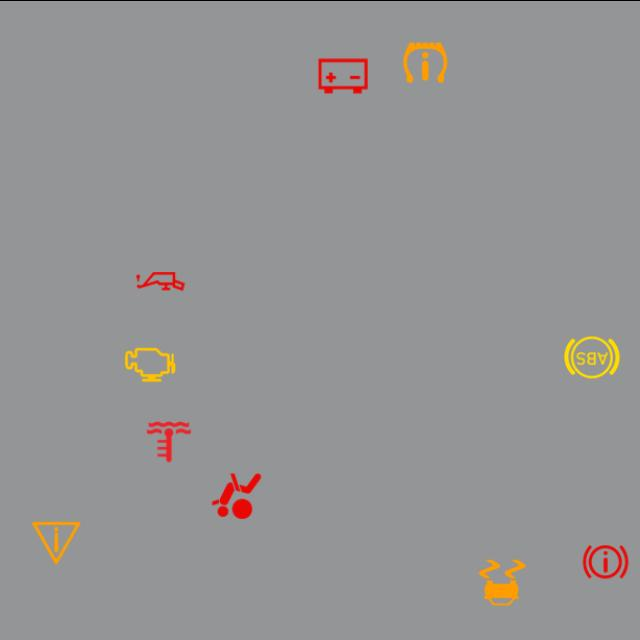Anti Lock Braking System: (562, 326, 622, 386)
Braking System Issue: (576, 531, 636, 591)
Charging System Issue: (313, 45, 373, 105)
Check Engine: (120, 334, 180, 394)
Electronic Stability Problem -ESP-: (472, 552, 532, 612)
Engine Overheating Warning Light: (139, 411, 199, 471)
Low Engine Oil Warning Light: (130, 250, 190, 310)
Low Tire Pressure Warning Light: (396, 32, 456, 92)
Master warning light: (27, 512, 86, 572)
SRS-Airbag: (206, 465, 266, 525)
